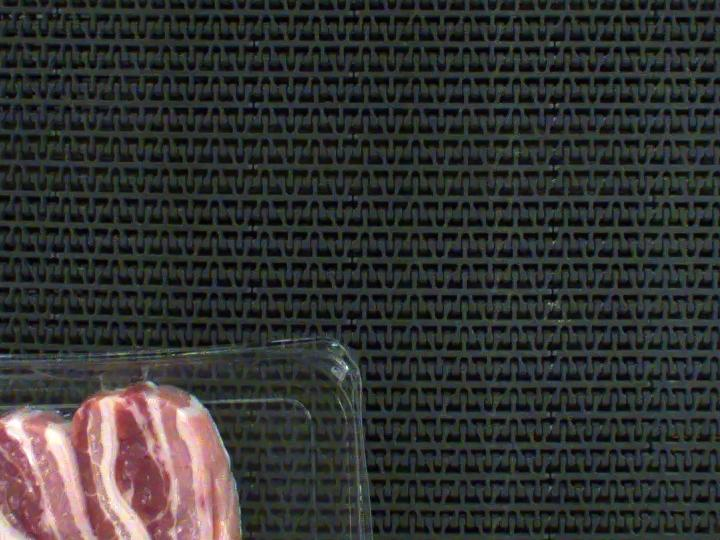packaging-error: (40, 346, 195, 414)
